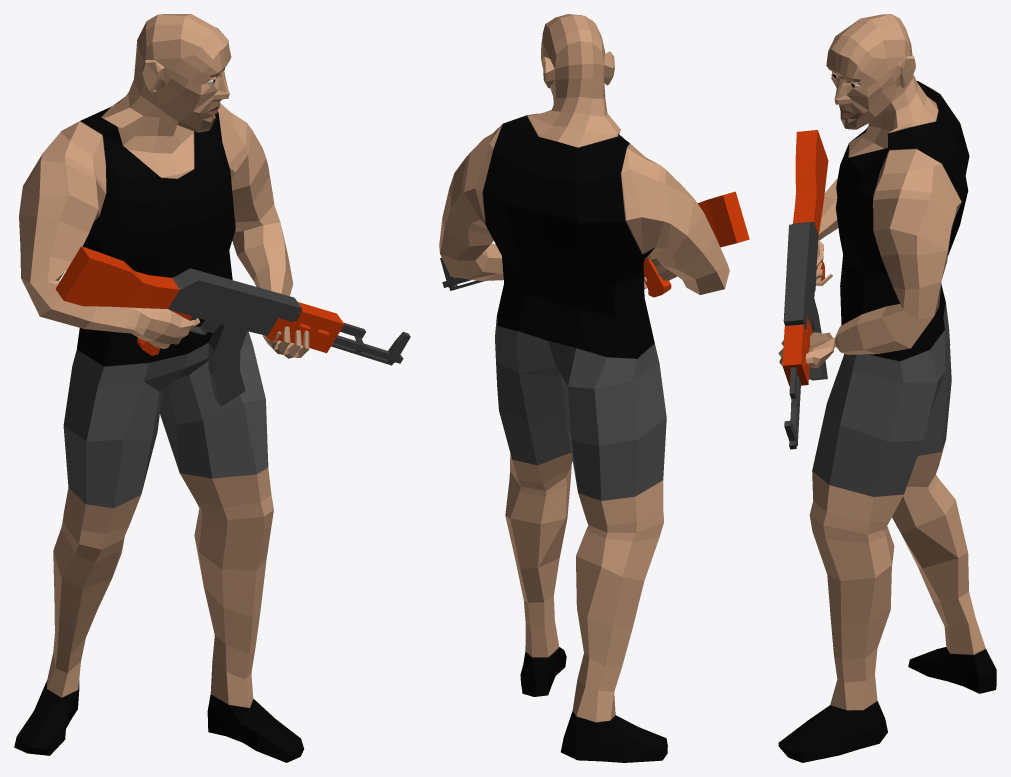
Rendered from PlayerIdle(162).obj.
3 renders of one model, left to right at view 1: azimuth 30°, elevation 25°; view 2: azimuth 150°, elevation 25°; view 3: azimuth 270°, elevation 25°, orthographic. The views are drawn at different scales.
Visible parts, largest first — view 1: Plane002, Object001; view 2: Plane002, Object001; view 3: Plane002, Object001.
Boxes of the visible parts, box(x1,y1,x2,y2) form: Plane002: box(14, 14, 326, 762); Object001: box(55, 246, 410, 406); Plane002: box(439, 14, 729, 762); Object001: box(440, 191, 749, 297); Plane002: box(778, 14, 996, 762); Object001: box(782, 130, 828, 449).
Bounding box in the file's own units: 879 × 1794 × 504.
